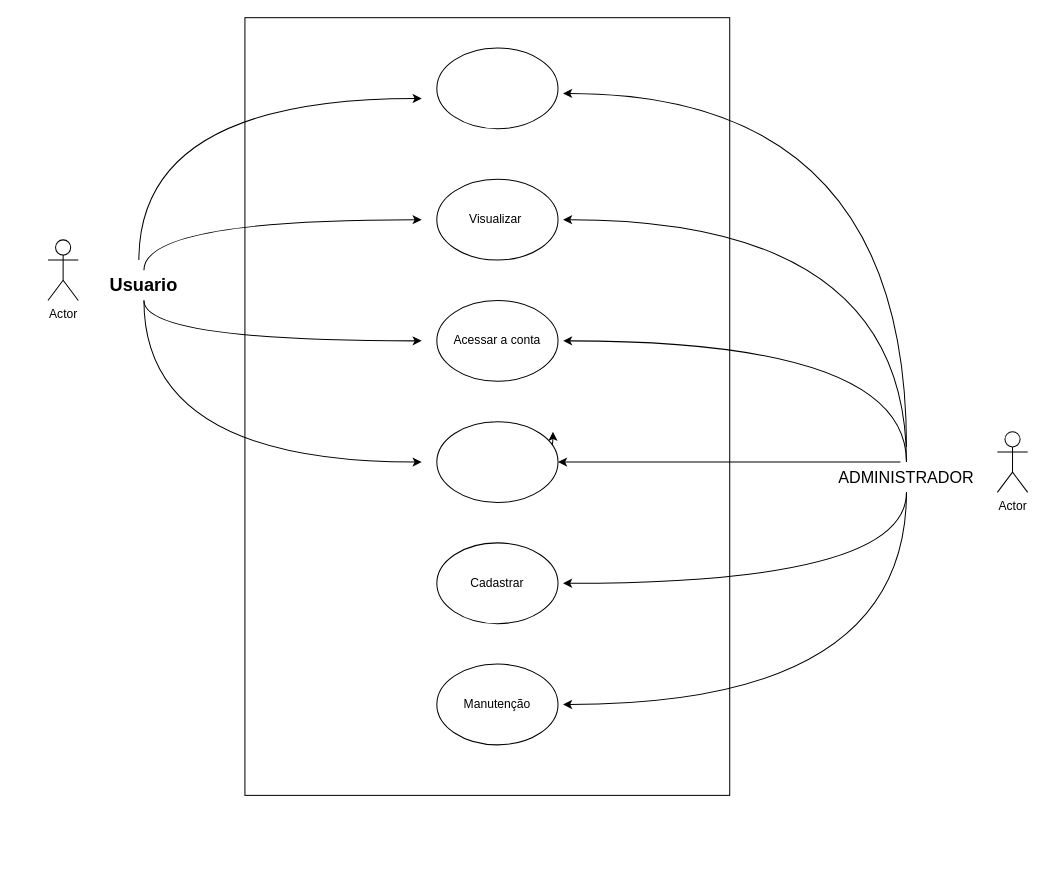
Image size: 1045x884. Some labels were removed from this diagram. The shapes that lost their labels are listed below. From the top down, each one's centre as x and y in pixels, then its label:
At pixel 497 88: "Pesquisar pokemon".
At pixel 497 461: "editar equipe de pokemons".
